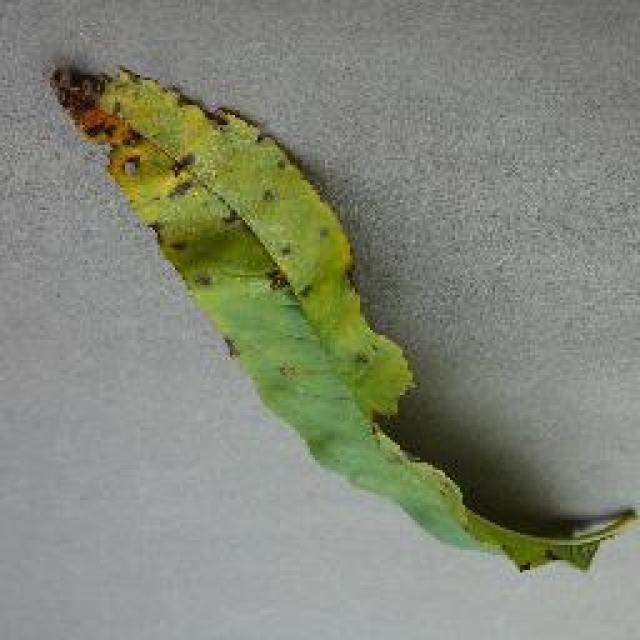Peach_Bacterial_Spot: (67, 59, 363, 354)
